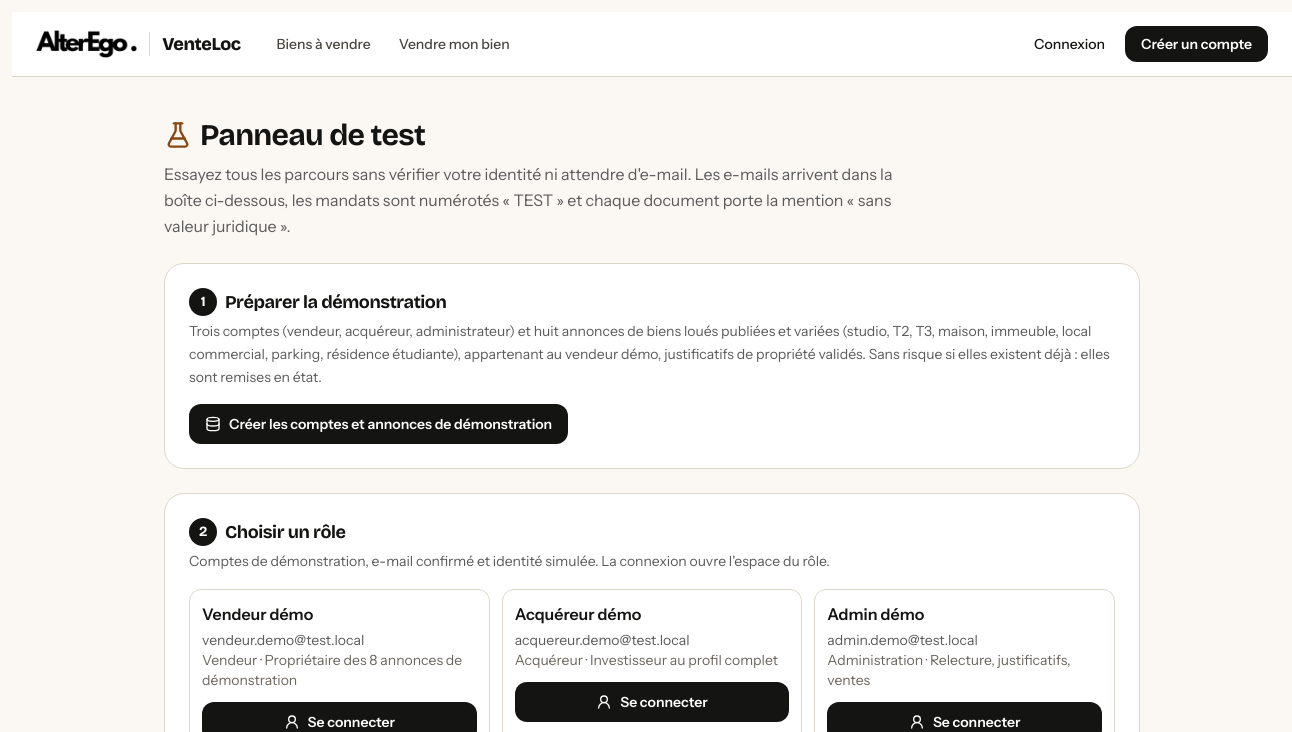
TestModePage › connexion rapide sans démonstration (404) : comptes créés puis connexion réessayée
The width and height of the screenshot is (1292, 732).
Click the button with test id "test-login-acquereur" at (652, 702), box [515,682,789,722]
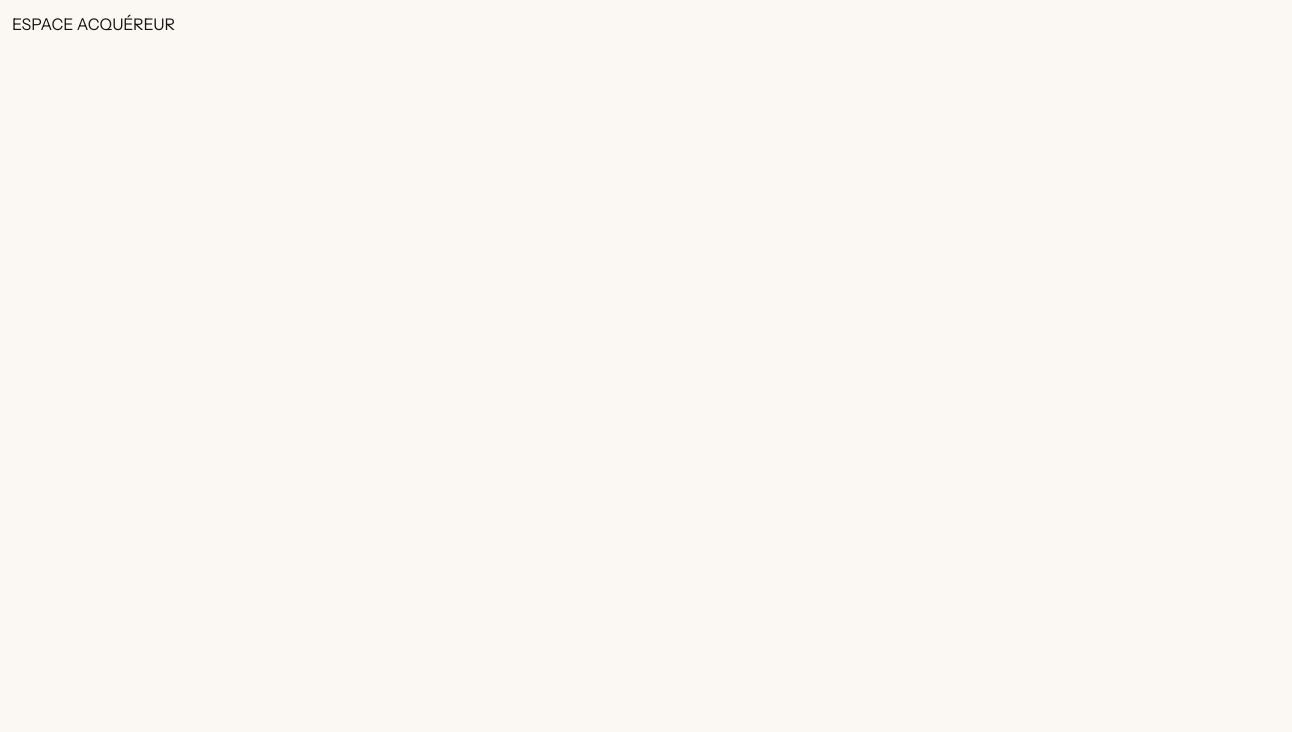
Check: the text "ESPACE ACQUÉREUR" is shown, box [12,14,175,34]
